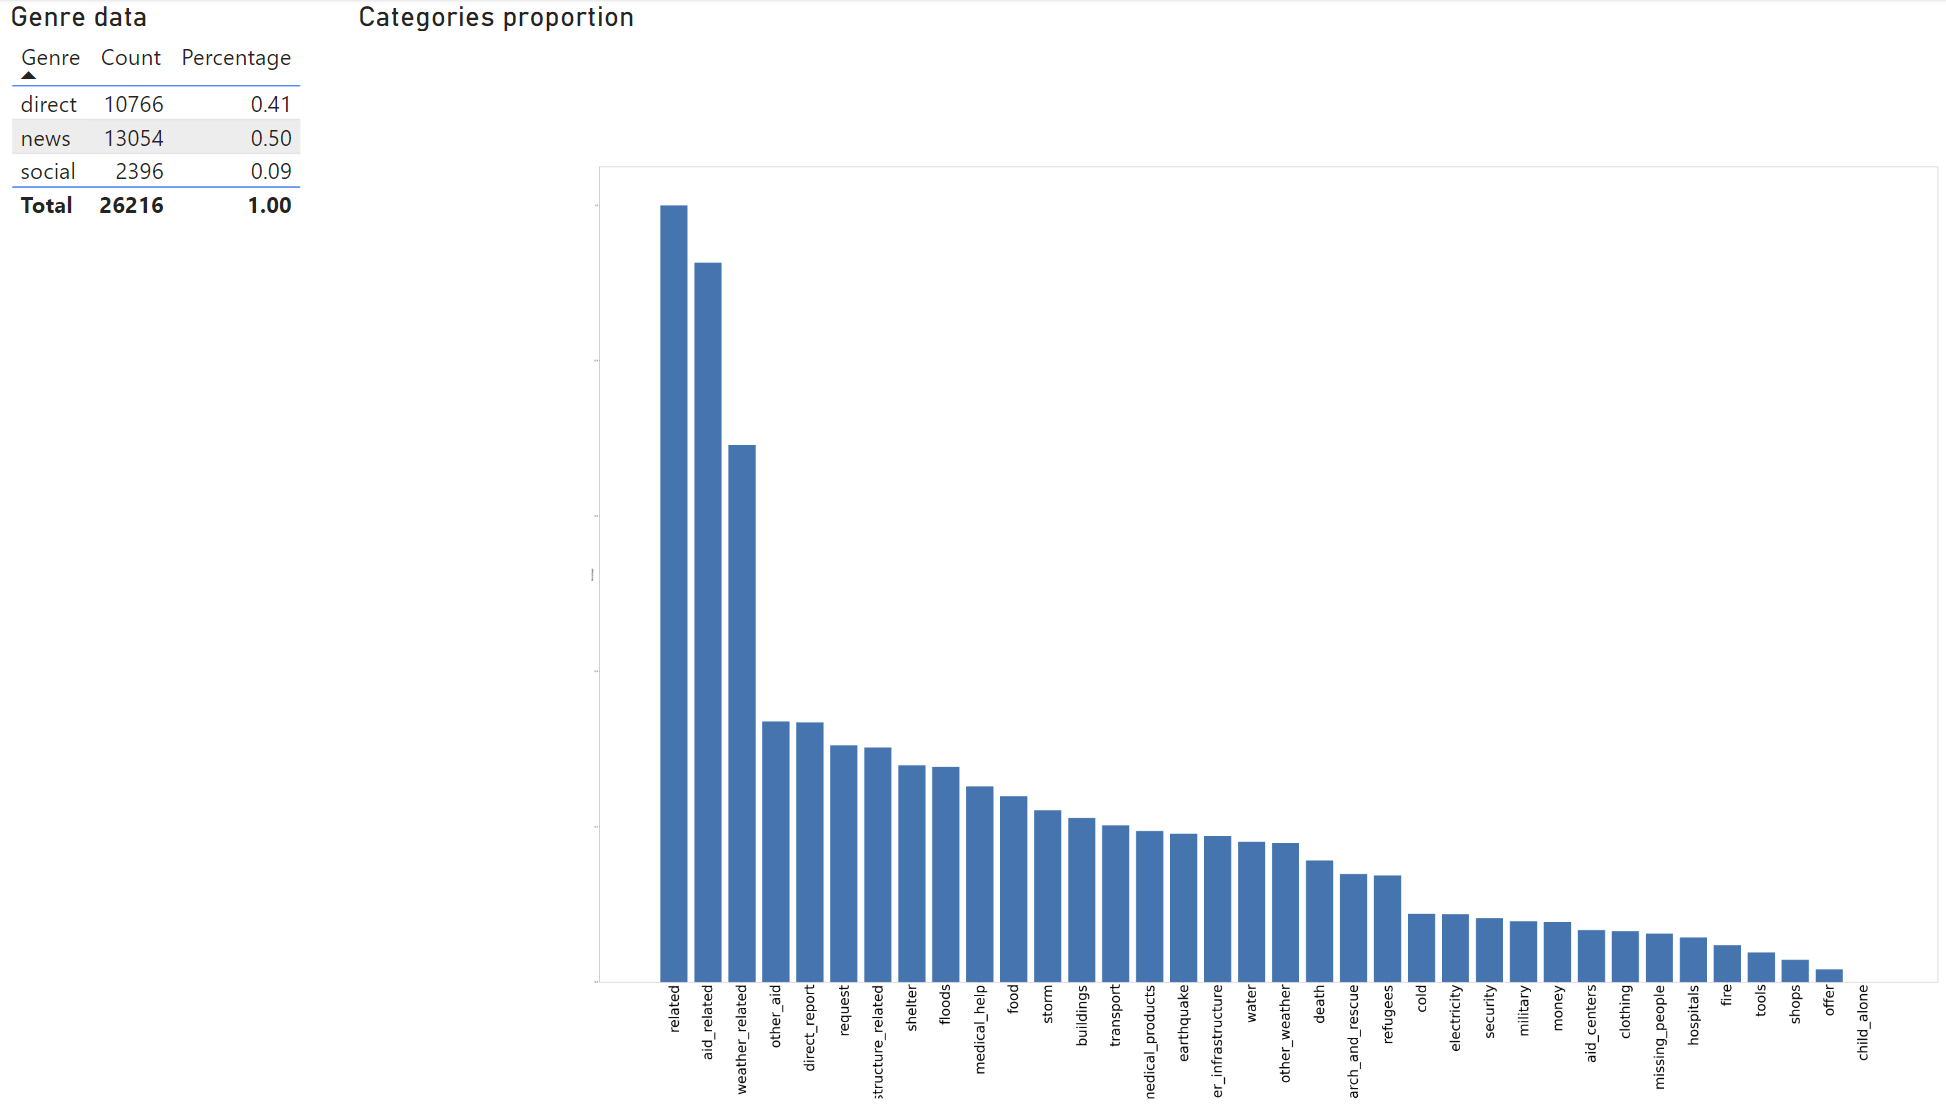

The page's visual inventory and layout, read from the dashboard file:
{"tool":"powerbi","page":{"name":"Page 1","canvas":[1280,720],"ordinal":0},"visuals":[{"type":"tableEx","title":"Genre data","fields":{"Values":["disaster_Fact.genre","disaster_Fact.Count of genre total for genre","disaster_Fact.Percentage"]},"box":[9.9,0,352.6,170.7],"z":0},{"type":"pythonVisual","title":"Categories proportion","fields":{"Values":["disaster_Fact.aid_centers","disaster_Fact.aid_related","disaster_Fact.buildings","disaster_Fact.child_alone","disaster_Fact.clothing","disaster_Fact.cold","disaster_Fact.death","disaster_Fact.direct_report","disaster_Fact.earthquake","disaster_Fact.electricity","disaster_Fact.floods","disaster_Fact.fire"]},"box":[216.5,0,1063.3,656.9],"z":2}]}

Visuals, with their boxes in screenshot pixels (x1, y1, x2, y2), scaled from the page's 1280x720 canvas onto the 1946x1106 screenshot:
"Genre data" tableEx: <region>15, 0, 551, 262</region>
"Categories proportion" pythonVisual: <region>329, 0, 1945, 1009</region>
